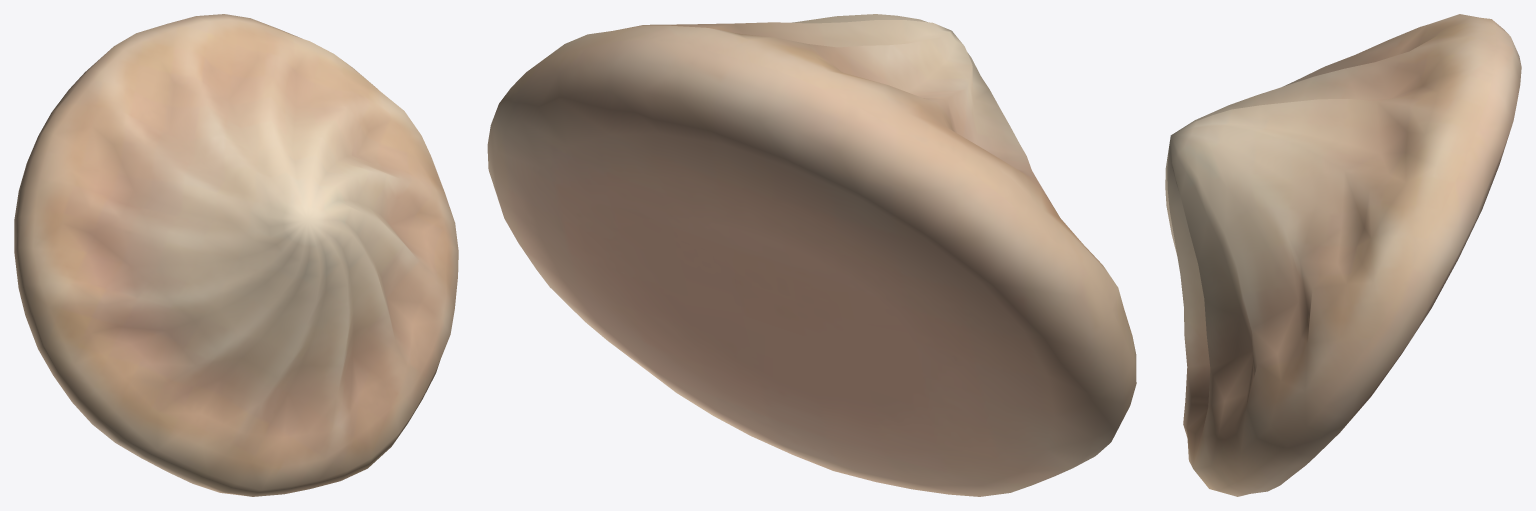
File: BFSoupDumpling.obj
The picture shows the model from 3 angles, left to right: view 1: azimuth 30°, elevation 25°; view 2: azimuth 150°, elevation 25°; view 3: azimuth 270°, elevation 25°; orthographic projection. The views are drawn at different scales.
Visible parts, largest first — view 1: guantangbao; view 2: guantangbao; view 3: guantangbao.
Boxes of the visible parts, box(x1,y1,x2,y2) form: guantangbao: box(14, 14, 458, 496); guantangbao: box(487, 14, 1136, 496); guantangbao: box(1165, 14, 1521, 496).
Size of the model in its own units: 1.13 by 0.9901 by 0.7495.
